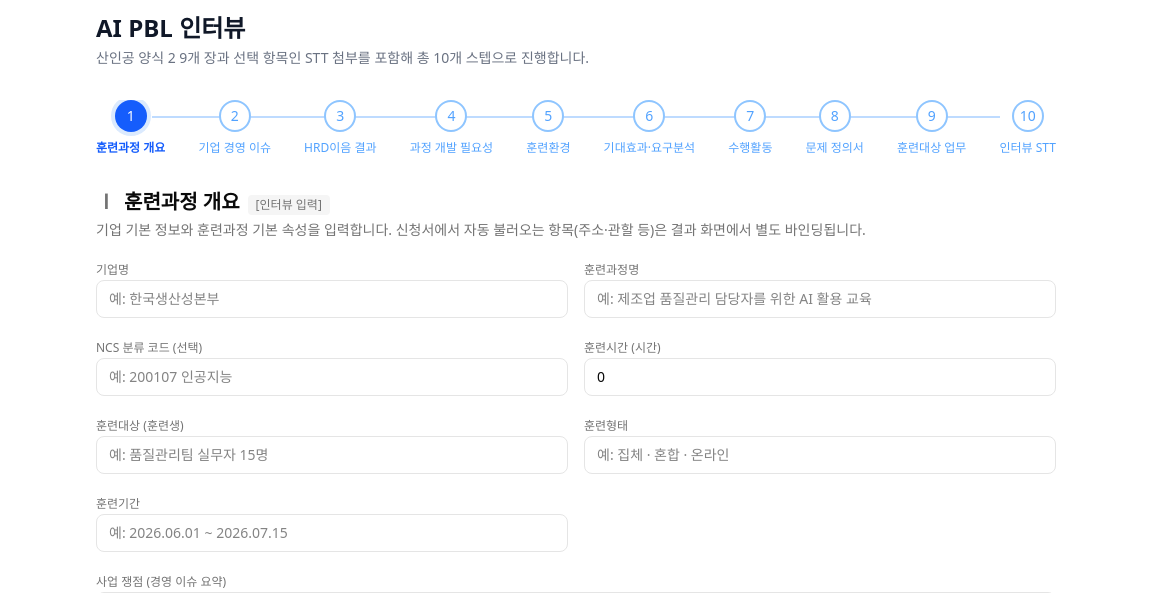
Scenario: PBLInterviewClient › 마지막 Step(sttAttach) 진입 시 StepSttAttach 가 렌더된다
Note: Stepper 는 단축 라벨 "인터뷰 STT", 본문 FormSection h2 는 풀텍스트
Click the text "인터뷰 STT" at (1028, 148), box [1000,140,1056,156]
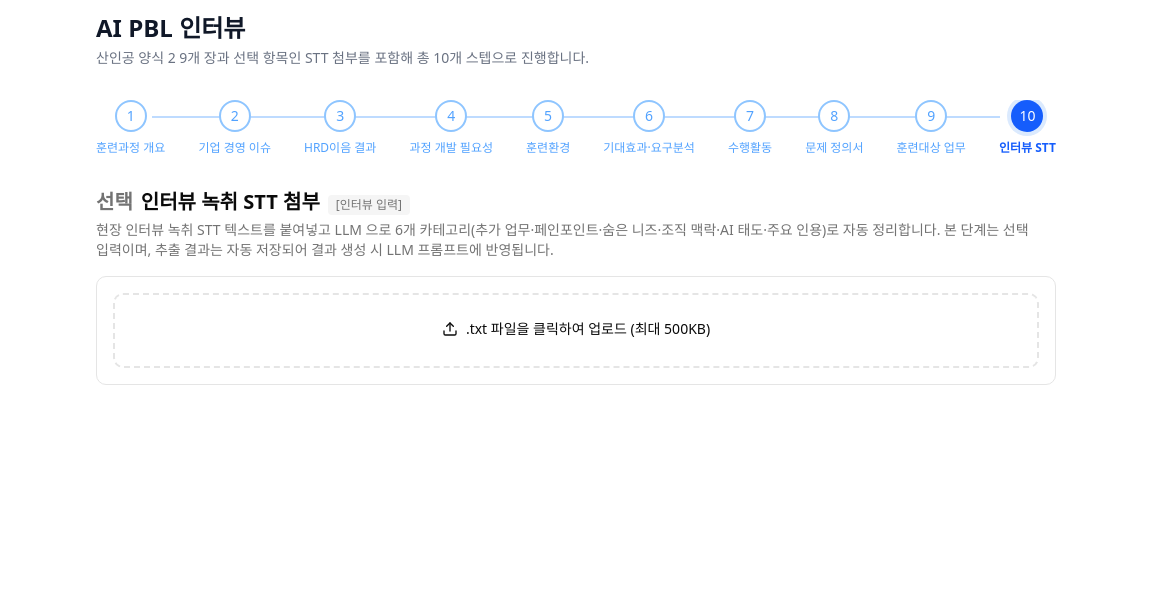
Check: the heading "인터뷰 녹취 STT 첨부" is shown, box [141,188,320,216]
Check: the element named "STT 파일" is shown, box [113,293,1039,368]
